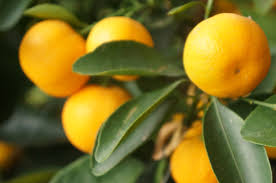orange: (177, 15, 274, 97), (62, 82, 147, 162), (20, 17, 92, 96), (84, 13, 157, 82)
